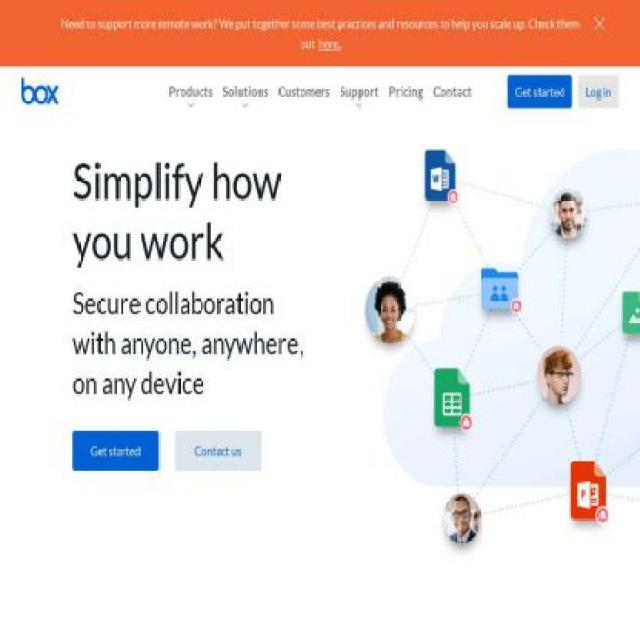button: (174, 430, 261, 472), (73, 430, 158, 472), (508, 74, 572, 108), (272, 77, 334, 106), (162, 77, 218, 106), (217, 77, 272, 106), (333, 77, 384, 106), (428, 77, 477, 106), (578, 74, 619, 108), (383, 77, 428, 106), (21, 78, 59, 109), (585, 7, 613, 38)
